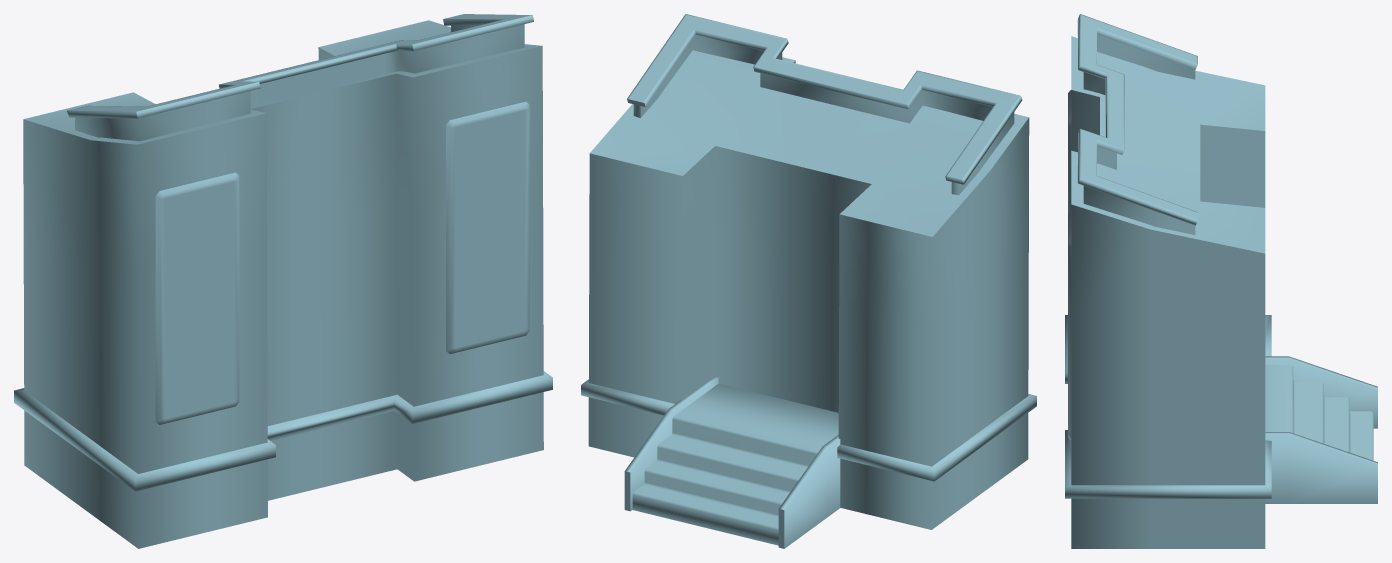
File: lo_Prop_Pulpit_A.fbx
3 views of the same model, side by side, from view 1: azimuth 30°, elevation 25°; view 2: azimuth 150°, elevation 25°; view 3: azimuth 270°, elevation 25° (orthographic). The views are drawn at different scales.
Parts seen in each view (by area): view 1: lo_Prop_Pulpit_A_LOD0; view 2: lo_Prop_Pulpit_A_LOD0; view 3: lo_Prop_Pulpit_A_LOD0.
Part boxes in pixels (x1,y1,x2,y2): lo_Prop_Pulpit_A_LOD0: (14, 14, 552, 548); lo_Prop_Pulpit_A_LOD0: (581, 14, 1036, 548); lo_Prop_Pulpit_A_LOD0: (1065, 14, 1377, 548).
Size of what is drawn, in the model's own units: 2.16 by 2.14 by 1.64.
